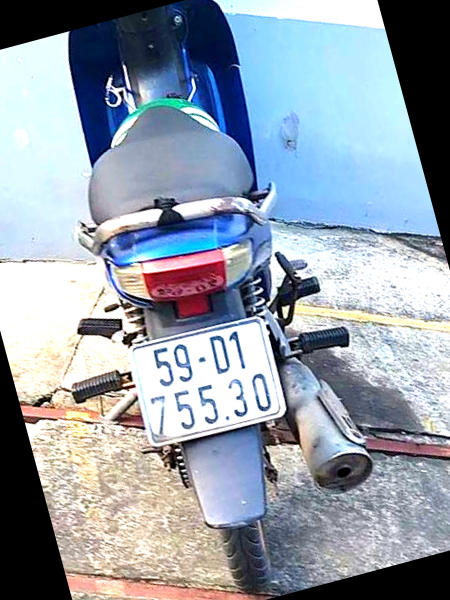number: (130, 318, 284, 448)
